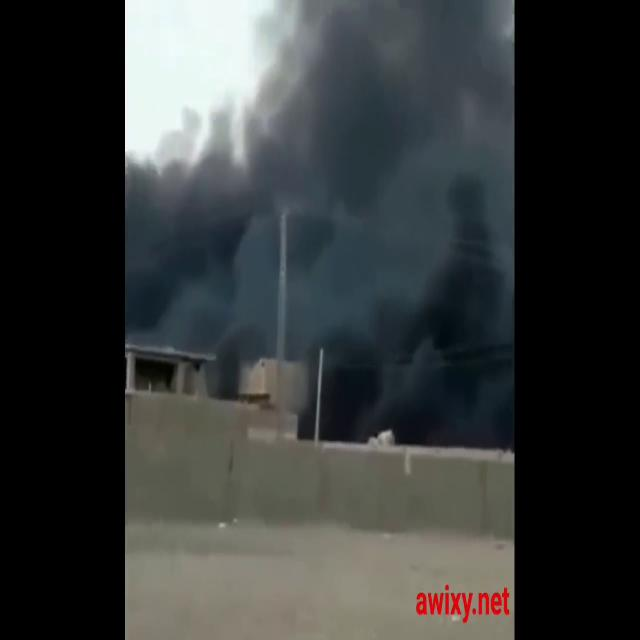Smoke: (216, 0, 512, 450), (129, 156, 234, 331)
